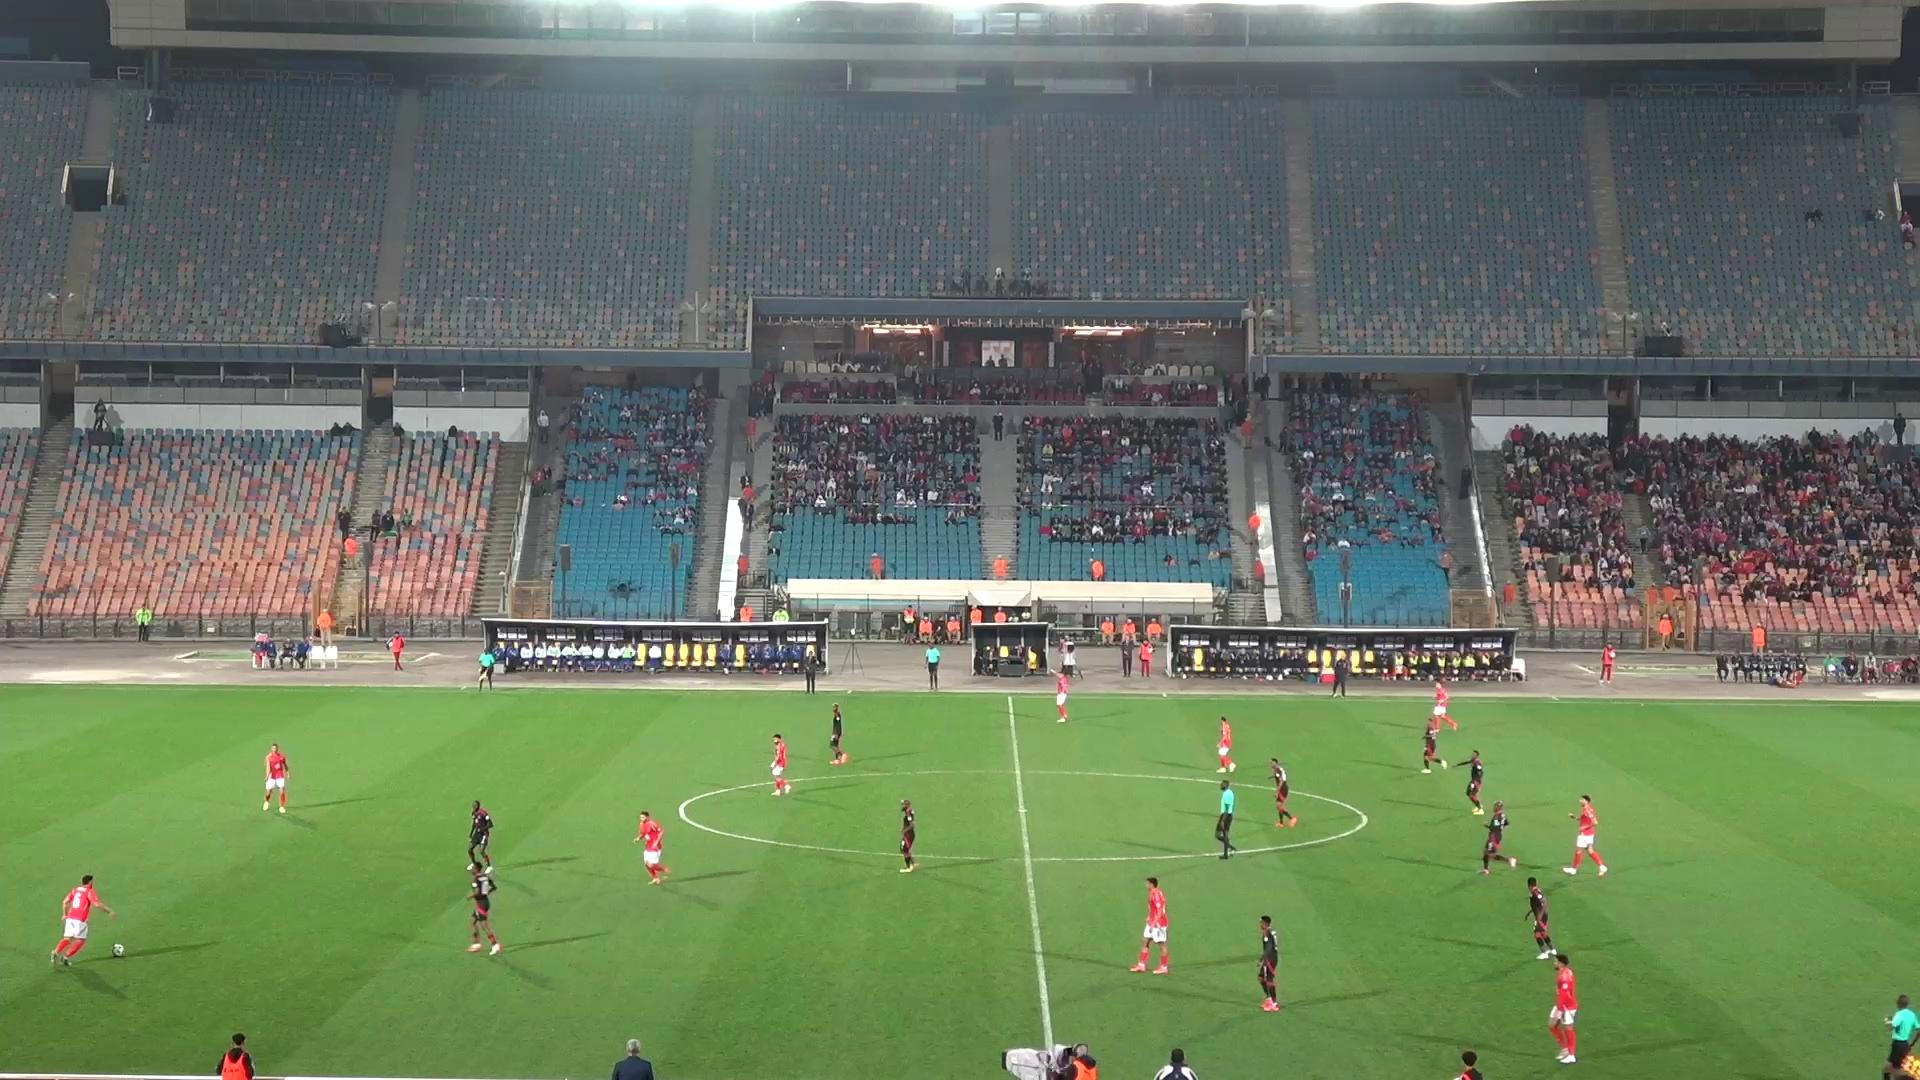Ball: (111, 943, 127, 957)
Refree: (1883, 994, 1919, 1079), (1213, 779, 1236, 858)
Team1: (47, 876, 115, 965), (1129, 876, 1168, 975), (1563, 795, 1607, 876), (1548, 951, 1577, 1064), (633, 811, 670, 884), (258, 742, 293, 814), (1425, 682, 1458, 735), (1215, 715, 1237, 775), (770, 733, 791, 795), (1054, 673, 1071, 723)
Team2: (467, 874, 504, 955), (1523, 877, 1556, 959), (1480, 800, 1516, 873), (1255, 914, 1280, 1011), (465, 800, 495, 874), (1420, 711, 1455, 773), (1455, 749, 1485, 814), (1270, 758, 1298, 828), (895, 799, 919, 872), (827, 702, 851, 766)
